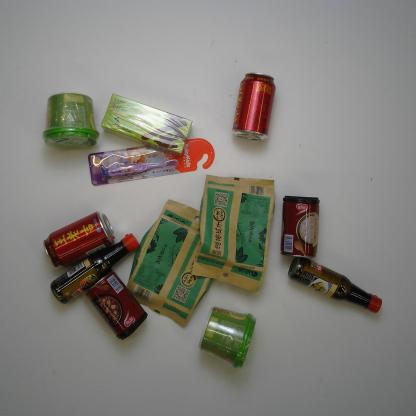Canned Food: (82, 273, 148, 343), (276, 193, 326, 263)
Dried Food: (124, 199, 230, 328), (190, 169, 279, 296)
Drink: (41, 211, 116, 271), (228, 70, 281, 141)
Instant Drink: (96, 90, 199, 158), (196, 305, 264, 367), (38, 91, 104, 153)
Personal Hygiene: (86, 137, 216, 189)
Seasoner: (50, 231, 140, 307), (285, 249, 384, 317)
